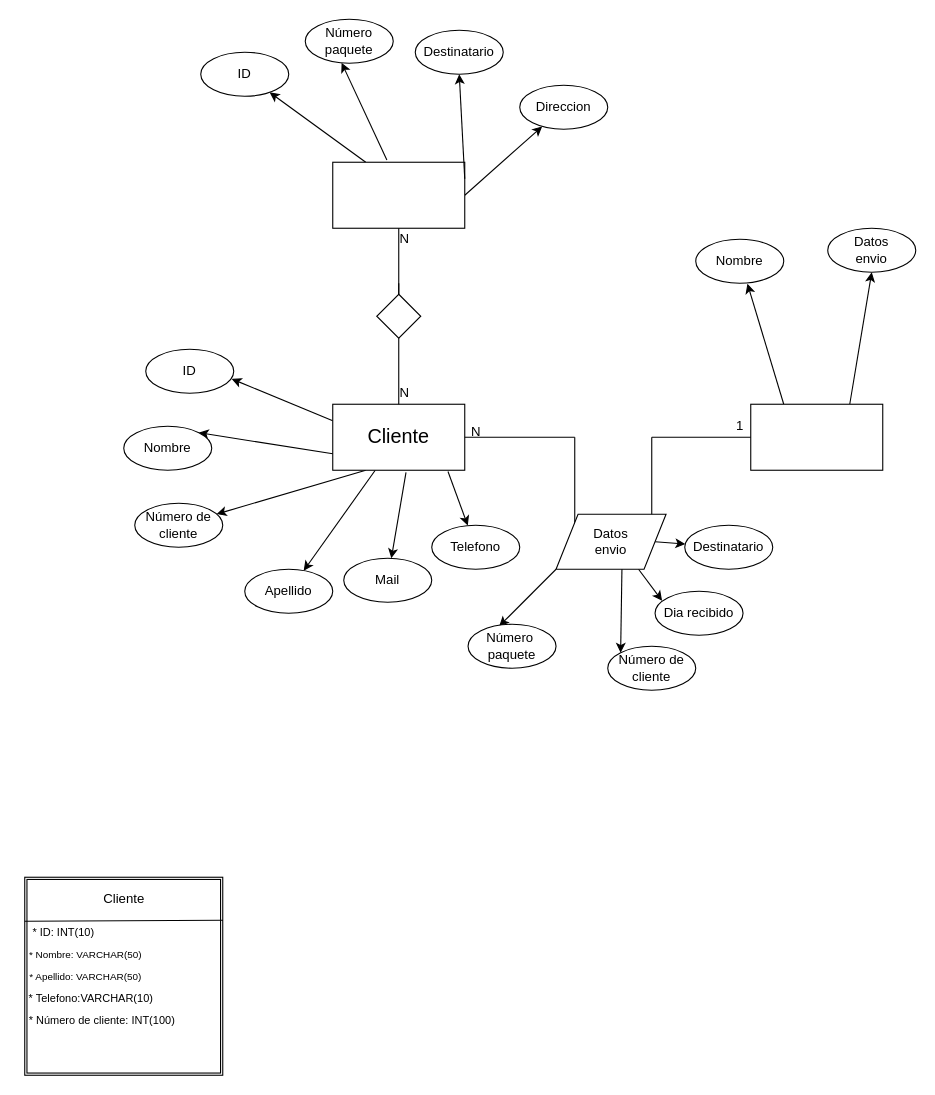
The diagram is 935 pixels wide and 1095 high, and some of its shapes have lost their labels. Each missing label, with the centre of its shape:
Paquete: the point at 398,194
Recepcionista: the point at 816,436
